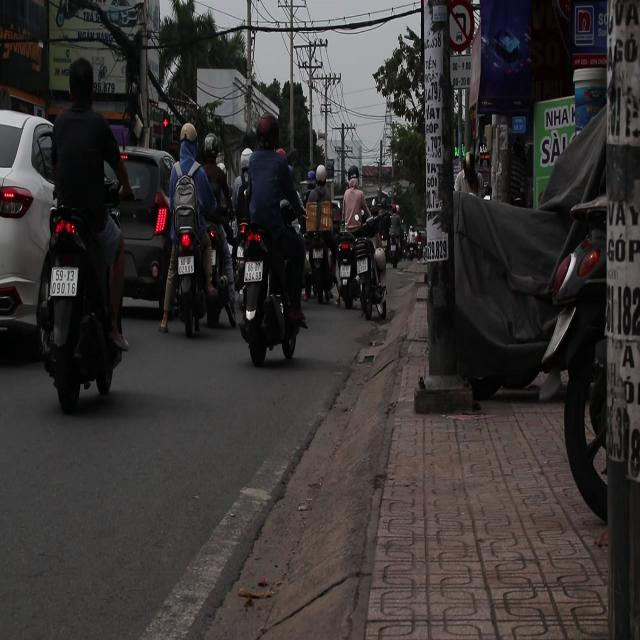car: (0, 106, 56, 368), (111, 146, 178, 316)
motorbike: (34, 195, 130, 412), (234, 210, 304, 365), (158, 152, 216, 333), (335, 218, 388, 322), (307, 196, 338, 319), (331, 224, 359, 309)
